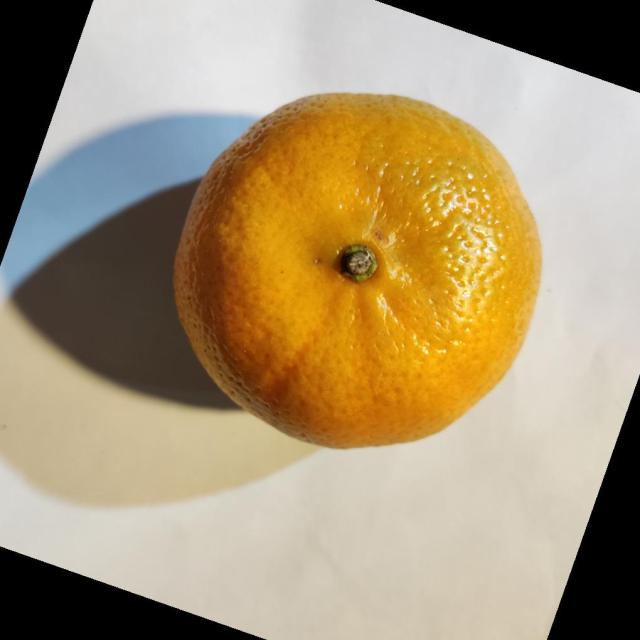fresh orange: (171, 90, 543, 450)
